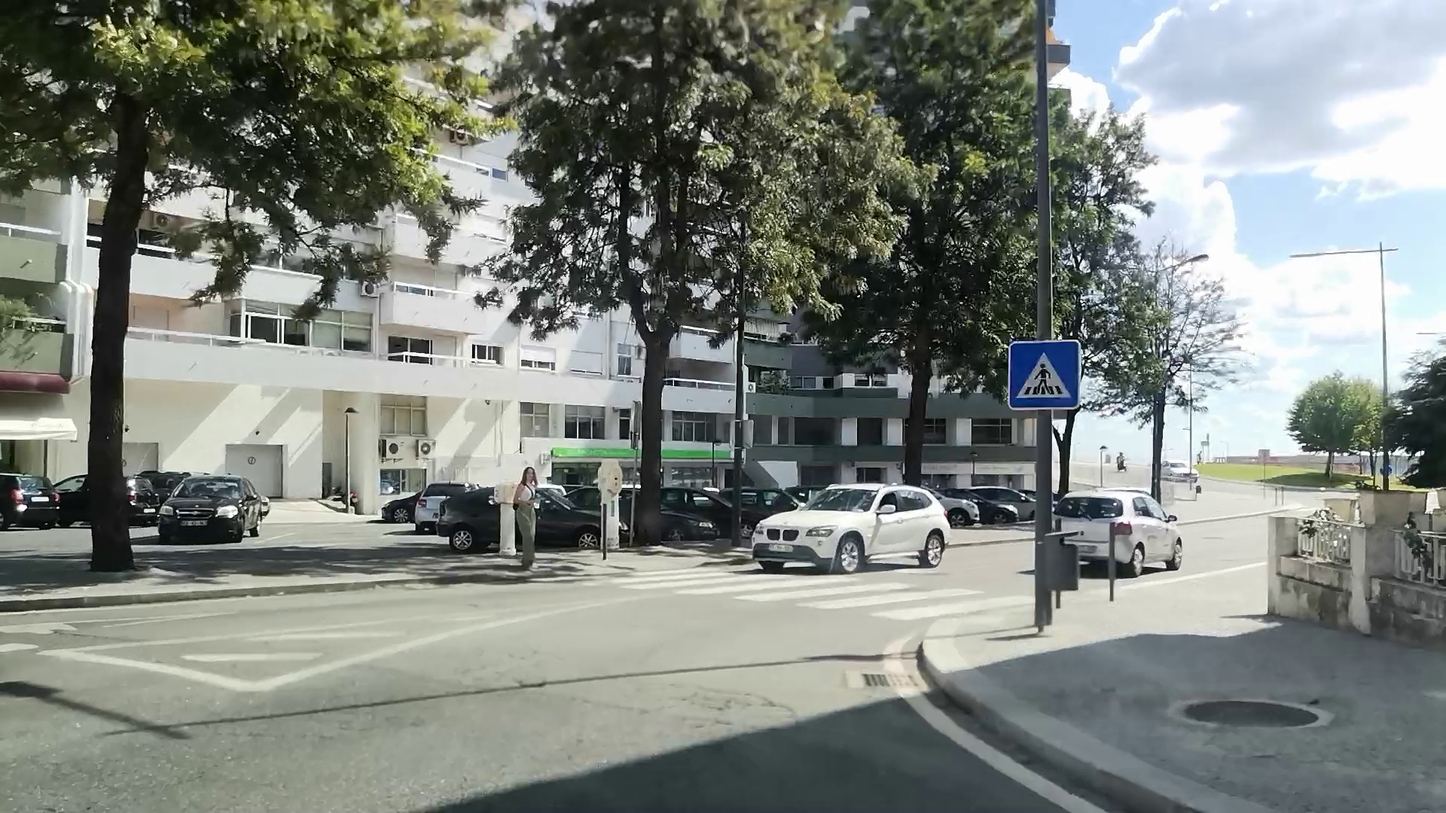Stairs: (584, 565, 1036, 622)
